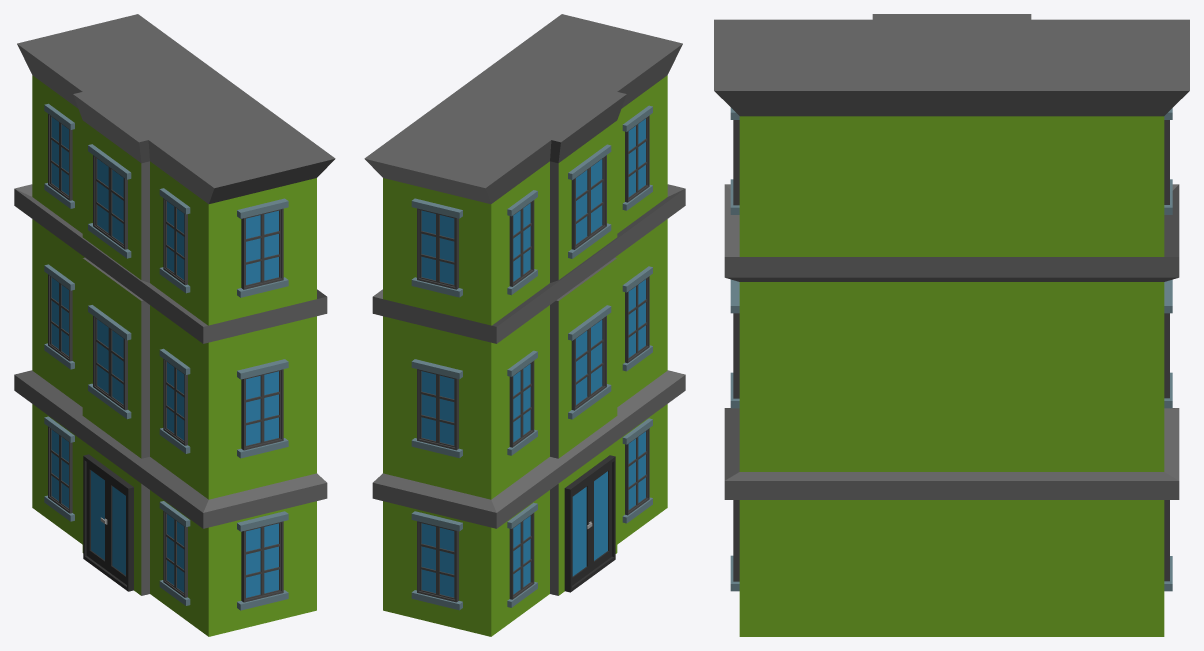
Rendered from Building1.fbx.
3 views of the same model, side by side, from view 1: azimuth 30°, elevation 25°; view 2: azimuth 150°, elevation 25°; view 3: azimuth 270°, elevation 25° (orthographic). The views are drawn at different scales.
Parts seen in each view (by area): view 1: Cube.098, Cube.132, Cube.121, Cube.130, Cube.127, Cube.115, Cube.118, Cube.100, Cube.103, Cube.106, Cube.109, Cube.112 (+6 smaller); view 2: Cube.098, Cube.132, Cube.135, Cube.138, Cube.141, Cube.115, Cube.118, Cube.100, Cube.103, Cube.125, Cube.106, Cube.109 (+6 smaller); view 3: Cube.098.
Part boxes in pixels (x1,y1,x2,y2): Cube.098: [14, 14, 335, 636]; Cube.132: [83, 454, 133, 591]; Cube.121: [241, 208, 283, 289]; Cube.130: [241, 521, 283, 602]; Cube.127: [241, 369, 283, 450]; Cube.115: [93, 155, 127, 249]; Cube.118: [93, 316, 127, 410]; Cube.100: [48, 274, 72, 361]; Cube.103: [48, 426, 72, 513]; Cube.106: [163, 198, 187, 285]; Cube.109: [163, 359, 187, 445]; Cube.112: [163, 511, 187, 597]; Cube.098: [364, 14, 685, 636]; Cube.132: [564, 455, 615, 592]; Cube.135: [417, 208, 458, 289]; Cube.138: [417, 369, 458, 450]; Cube.141: [417, 521, 458, 602]; Cube.115: [571, 155, 606, 249]; Cube.118: [571, 316, 606, 410]; Cube.100: [509, 360, 534, 447]; Cube.103: [509, 513, 534, 599]; Cube.125: [509, 200, 534, 286]; Cube.106: [625, 115, 649, 202]; Cube.109: [625, 276, 649, 363]; Cube.098: [714, 14, 1189, 636].
Bounding box in the file's own units: 1263 × 4222 × 3305.
